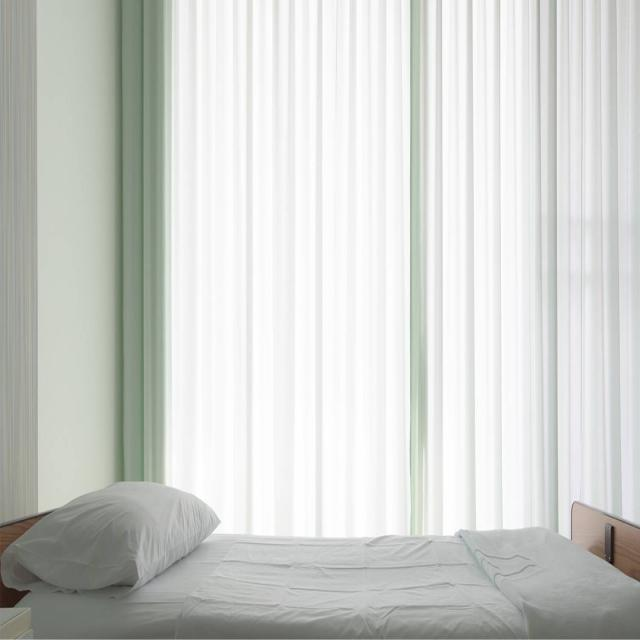bed: (1, 496, 639, 638)
